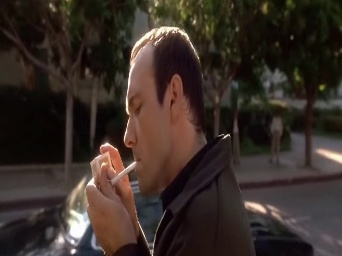smoke: (106, 160, 139, 186)
